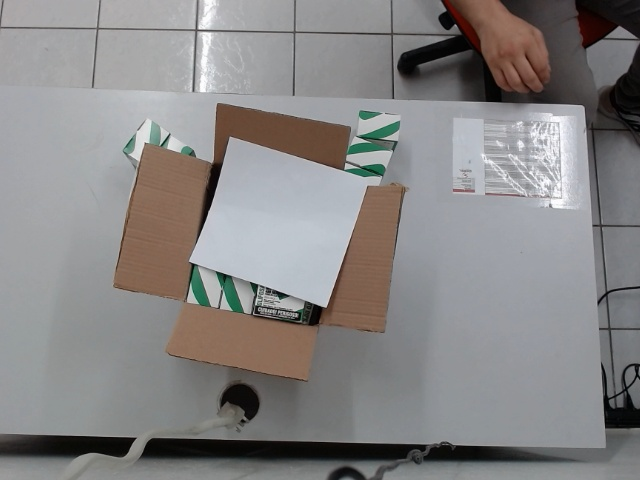divisor: (186, 134, 370, 309)
item: (120, 119, 171, 171), (256, 285, 311, 324), (219, 272, 259, 322), (353, 110, 401, 151), (185, 261, 222, 309), (344, 140, 396, 174), (341, 162, 386, 190)
